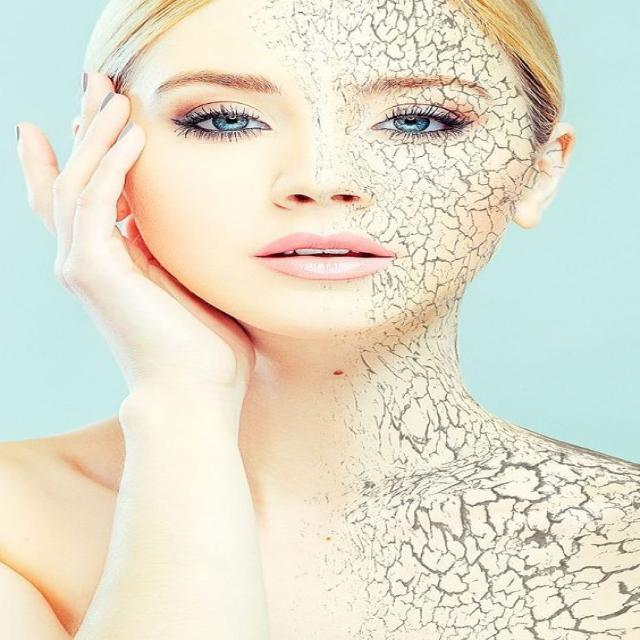dry: (344, 441, 640, 640), (338, 144, 500, 262), (265, 6, 482, 71), (347, 326, 455, 456), (352, 268, 460, 340), (304, 90, 386, 160), (483, 90, 548, 166)
